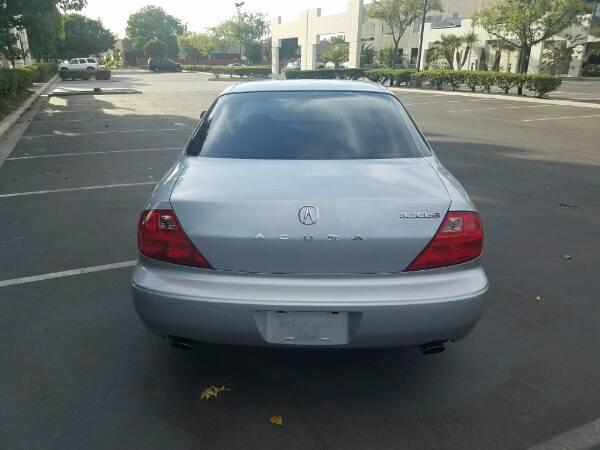acura: (128, 77, 494, 362)
